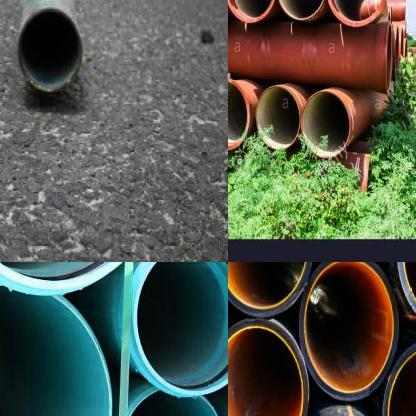pipe: (0, 284, 112, 416), (299, 262, 399, 401), (134, 262, 228, 396), (228, 319, 309, 416), (17, 5, 82, 93), (228, 262, 313, 317), (300, 90, 350, 158), (255, 86, 300, 150), (326, 0, 388, 28), (228, 78, 250, 151), (228, 0, 275, 23), (277, 0, 326, 20)
